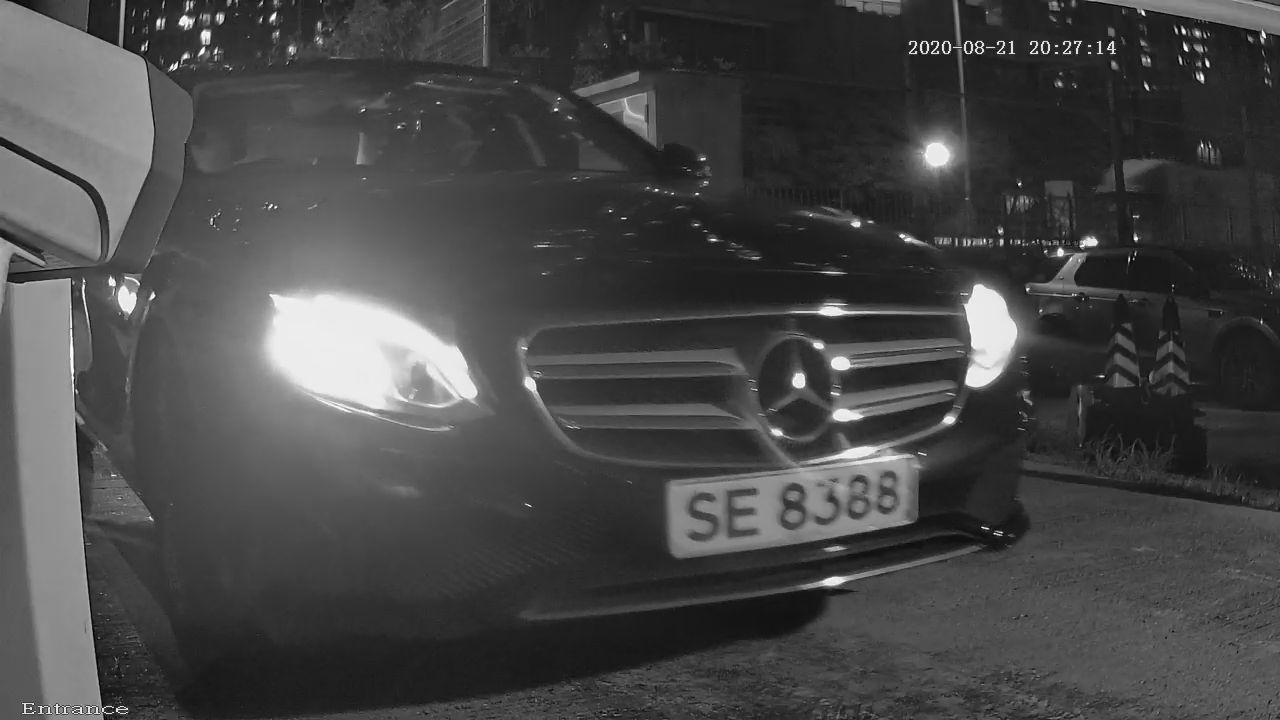Car: (12, 4, 1121, 708)
License Plate: (637, 433, 945, 588)
